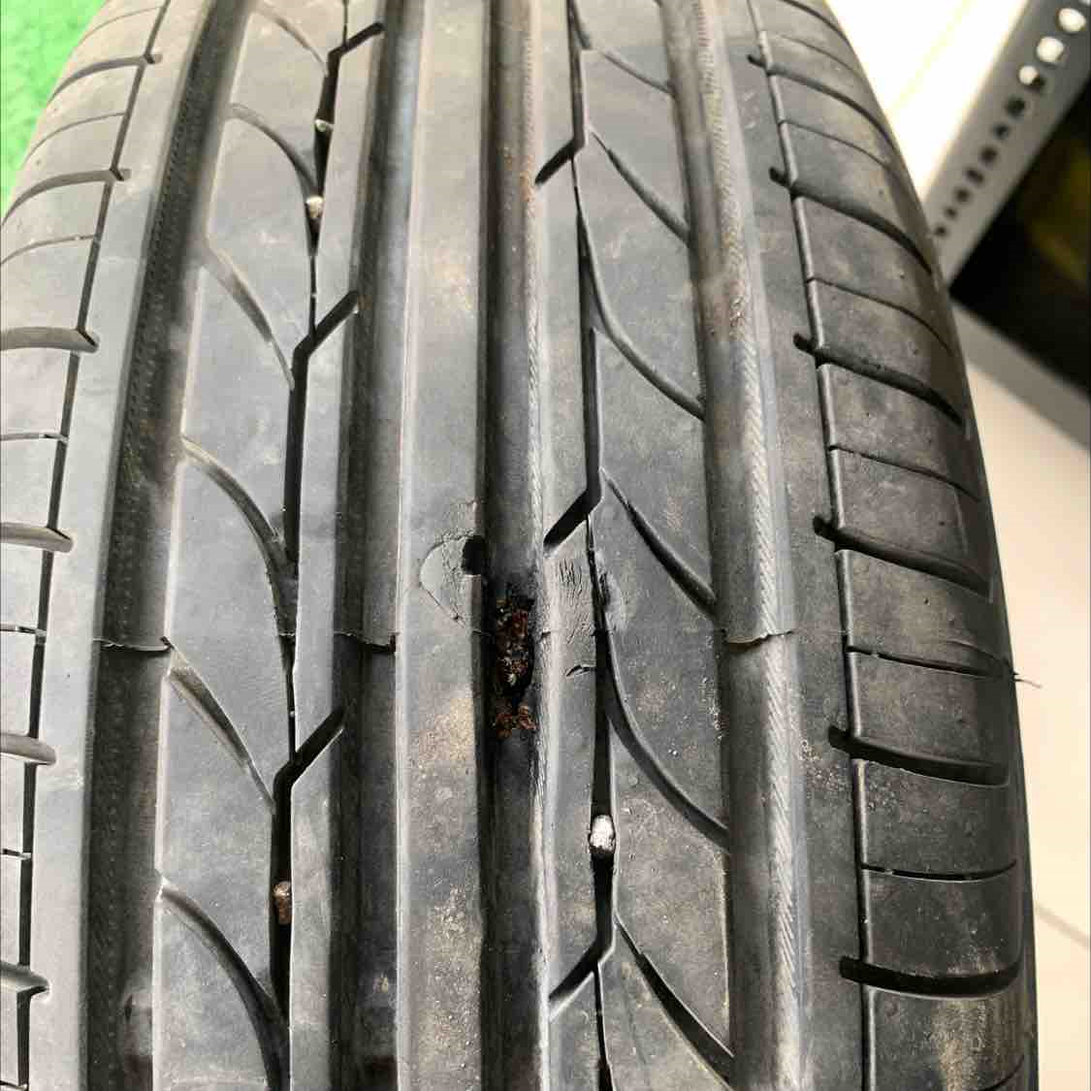tr: (452, 520, 554, 751)
